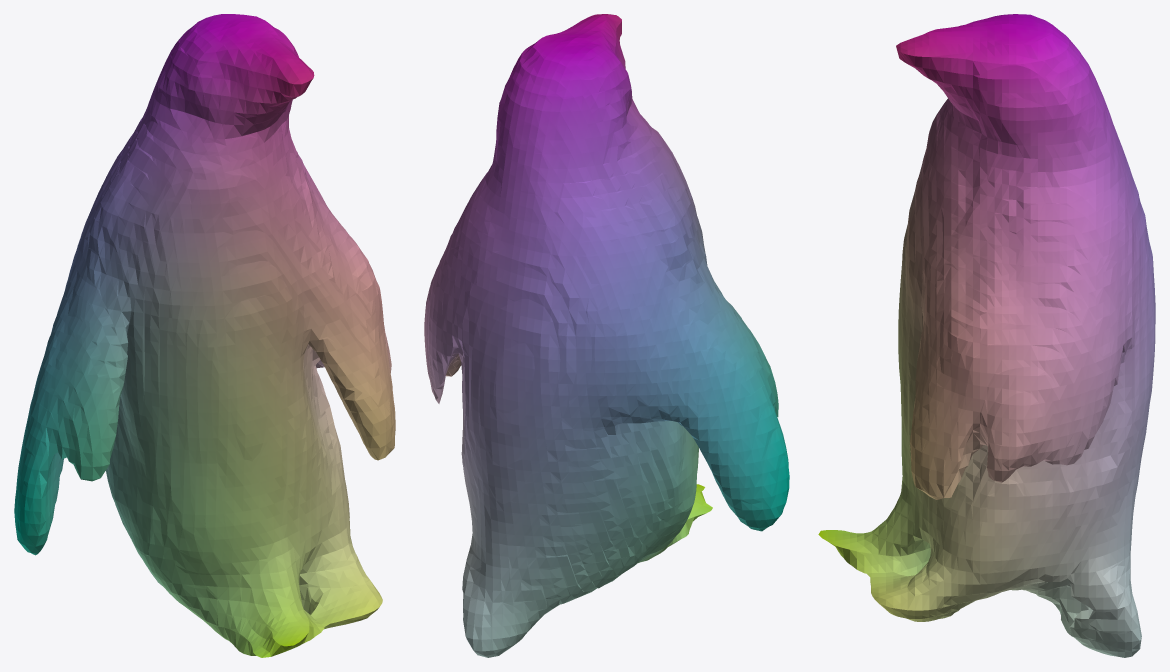
File: penguin.glb
The picture shows the model from 3 angles, left to right: view 1: azimuth 30°, elevation 25°; view 2: azimuth 150°, elevation 25°; view 3: azimuth 270°, elevation 25°; orthographic projection. The views are drawn at different scales.
Visible parts, largest first — view 1: model; view 2: model; view 3: model.
Boxes of the visible parts, left/top/right/bottom form: model: left=14, top=14, right=395, bottom=657; model: left=424, top=14, right=789, bottom=657; model: left=818, top=14, right=1155, bottom=657.
Size of the model in its own units: 0.0746 by 0.1196 by 0.0591.
